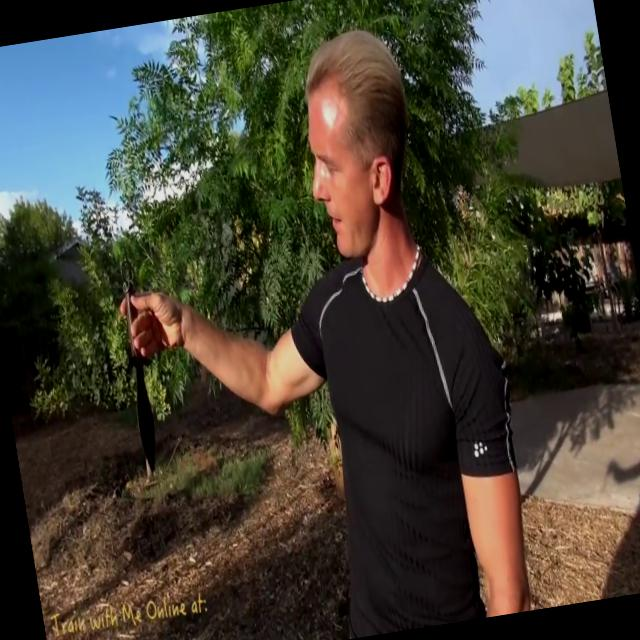knife: (104, 245, 174, 469)
